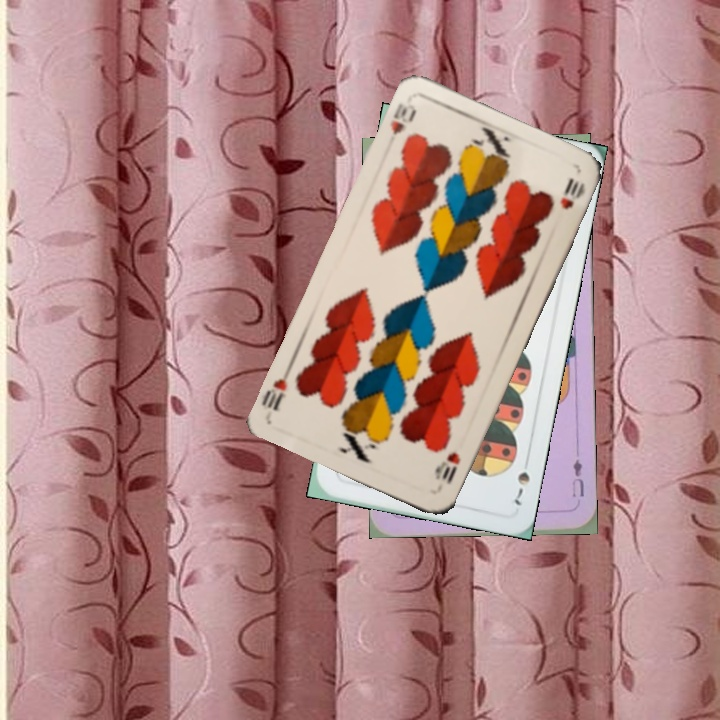EU: (568, 455, 586, 500)
H10: (386, 99, 420, 138), (431, 447, 463, 487)
S7: (509, 452, 533, 508)
